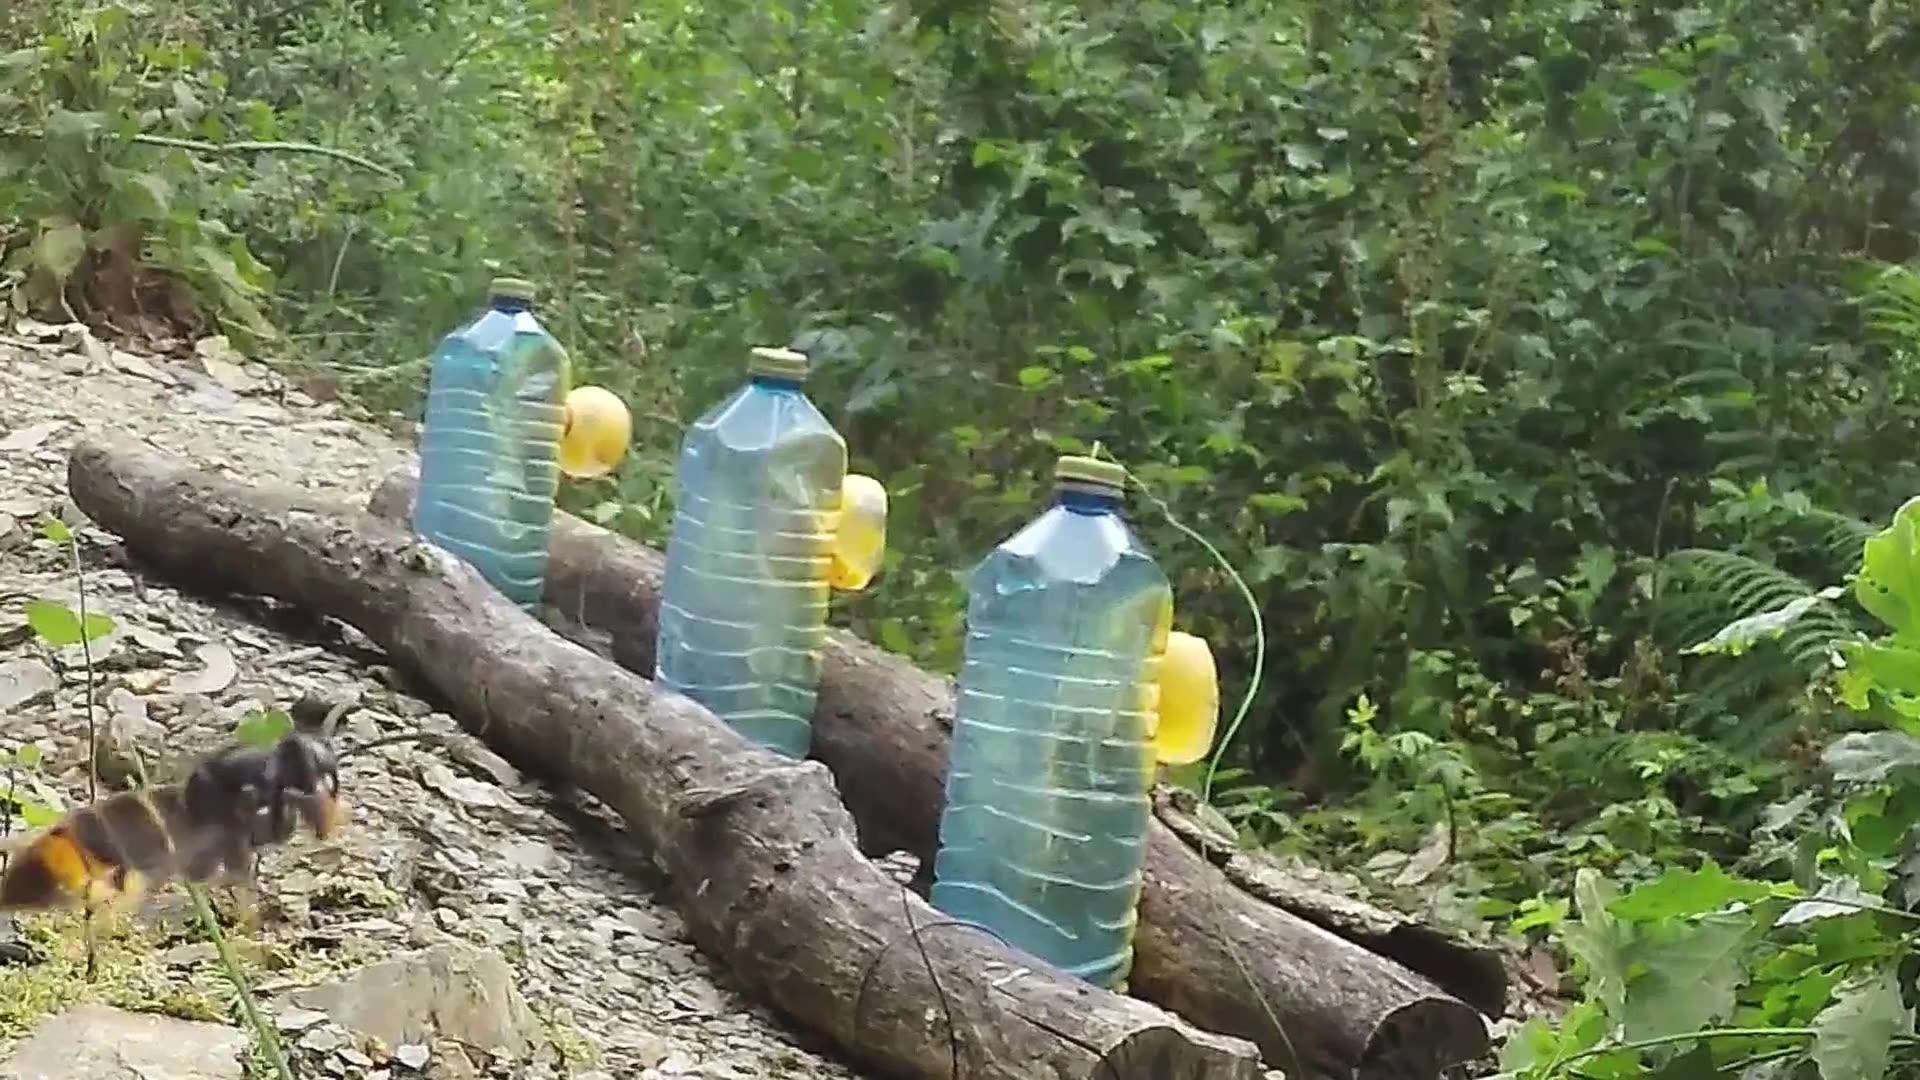hornet: (1, 709, 352, 938)
